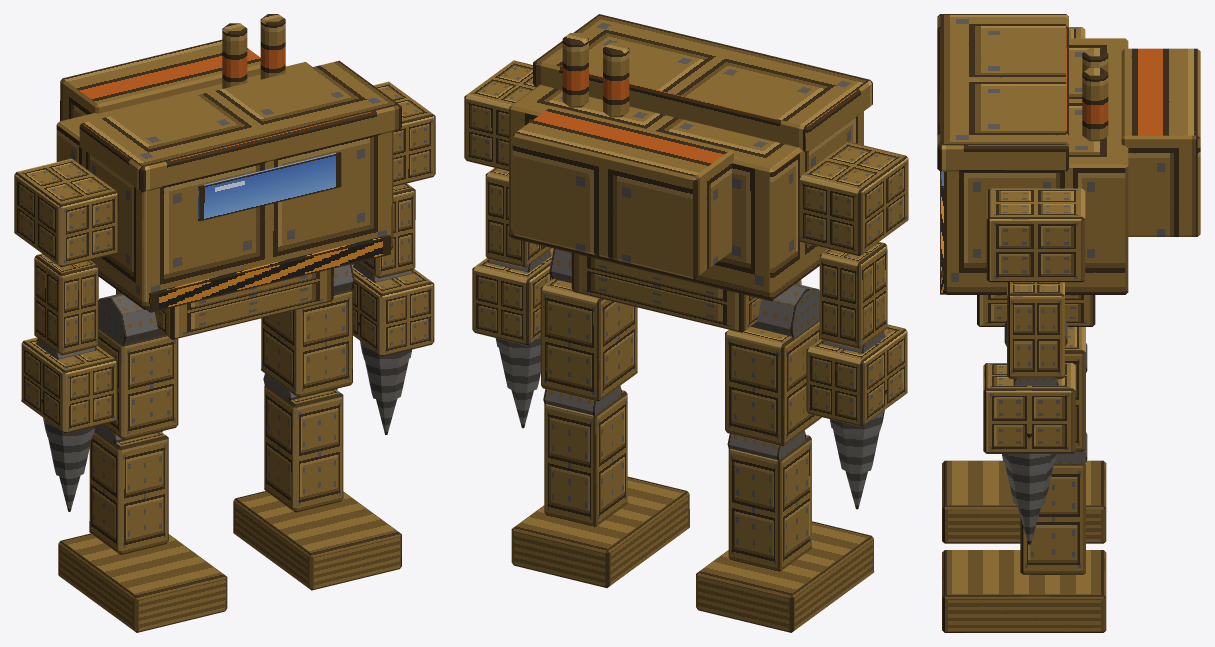
The model's file is mech_mining.glb.
The picture shows the model from 3 angles, left to right: view 1: azimuth 30°, elevation 25°; view 2: azimuth 150°, elevation 25°; view 3: azimuth 270°, elevation 25°; orthographic projection. The views are drawn at different scales.
Visible parts, largest first — view 1: Torso-head, R_foot, L_foot, R_shoulder, L_shin, R_shin, L_thigh, R_forearm, R_thigh, L_forearm, root_Pelvis, R_upper_arm (+7 smaller); view 2: Torso-head, L_foot, R_foot, R_shoulder, L_thigh, L_shin, R_shin, R_thigh, R_forearm, root_Pelvis, R_upper_arm, L_forearm (+8 smaller); view 3: Torso-head, L_foot, L_shoulder, R_foot, L_forearm, L_shin, L_upper_arm, L_drill, root_Pelvis, L_thigh, mining_stripe, L_back_knee (+1 smaller).
Boxes of the visible parts, x1,y1,x2,y2 form: Torso-head: (56,14,401,309); R_foot: (58,533,227,632); L_foot: (233,491,401,590); R_shoulder: (14,158,118,267); L_shin: (264,385,343,512); R_shin: (89,430,168,554); L_thigh: (261,289,352,397); R_forearm: (21,337,117,433); R_thigh: (97,328,178,440); L_forearm: (351,263,434,356); root_Pelvis: (116,268,333,339); R_upper_arm: (34,253,98,355); Torso-head: (509,14,872,301); L_foot: (511,476,689,587); R_foot: (696,521,874,632); R_shoulder: (798,141,908,255); L_thigh: (540,279,637,401); L_shin: (544,390,627,527); R_shin: (728,435,811,572); R_thigh: (725,320,821,446); R_forearm: (806,324,907,426); root_Pelvis: (571,253,801,332); R_upper_arm: (819,241,887,348); L_forearm: (472,248,553,345); Torso-head: (937,14,1200,294); L_foot: (942,550,1106,632); L_shoulder: (986,188,1085,282); R_foot: (942,460,1106,543); L_forearm: (983,363,1075,453); L_shin: (1020,463,1085,574); L_upper_arm: (1007,282,1064,378); L_drill: (1002,433,1056,544); root_Pelvis: (977,295,1095,326); L_thigh: (1065,327,1085,451); mining_stripe: (940,171,945,294); L_back_knee: (1054,432,1087,465).
Bounding box in the file's own units: 20.7 × 26.86 × 12.
Materials: 1 (1 with a texture image).
